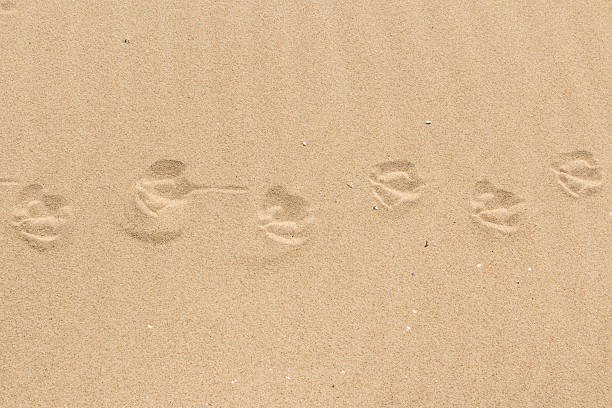animal_footprint: (124, 159, 247, 242), (9, 184, 72, 249), (257, 185, 314, 245), (470, 179, 524, 233), (369, 160, 426, 208), (551, 150, 602, 197), (0, 0, 17, 14), (0, 177, 18, 186)
